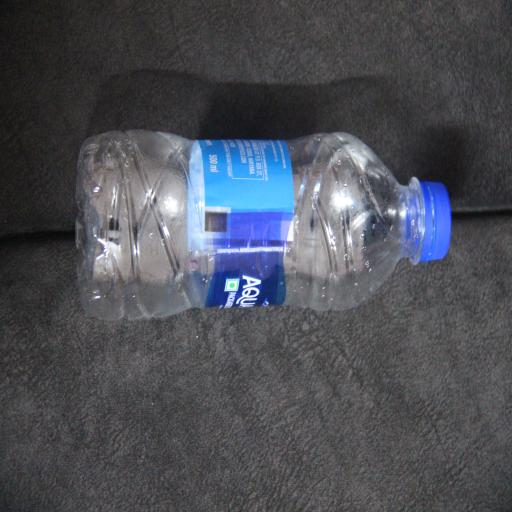Aquafina: (72, 71, 240, 512)
